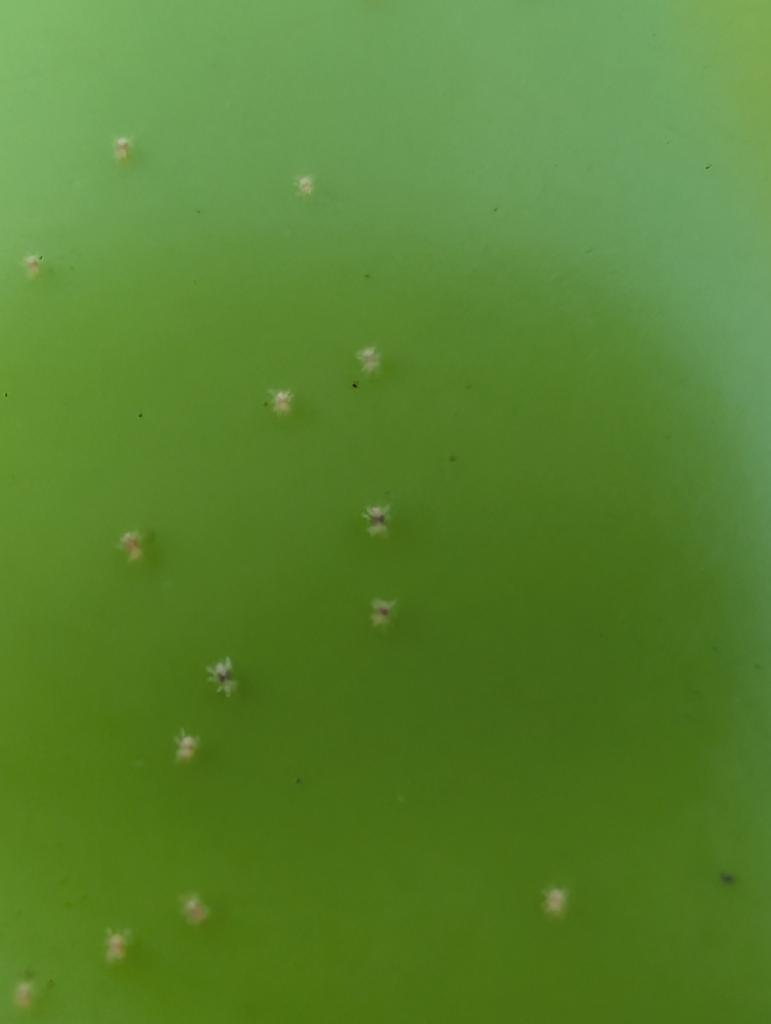tiny_pests: (347, 485, 408, 550), (360, 588, 413, 645), (201, 643, 246, 708)
